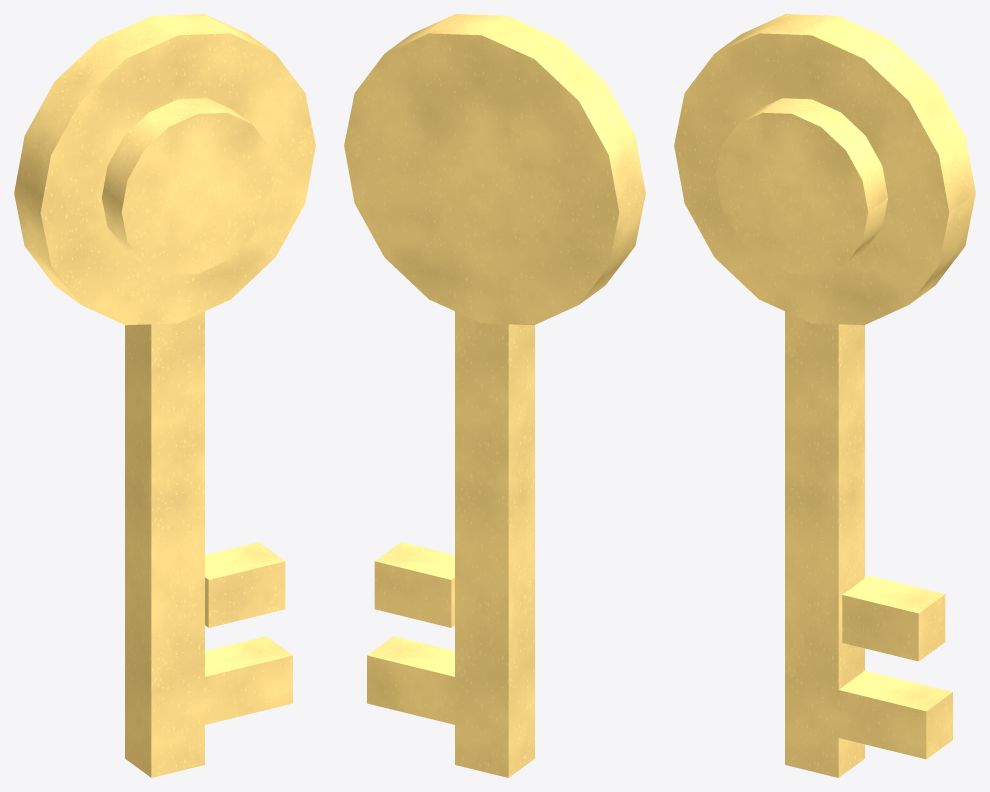
Rendered from key_sun.glb.
3 renders of one model, left to right at view 1: azimuth 30°, elevation 25°; view 2: azimuth 150°, elevation 25°; view 3: azimuth 330°, elevation 25°, orthographic.
Parts seen in each view (by area): view 1: key_sun; view 2: key_sun; view 3: key_sun.
Boxes of the visible parts, box(x1,y1,x2,y2) form: key_sun: box(14, 14, 315, 777); key_sun: box(344, 14, 645, 777); key_sun: box(674, 14, 975, 777).
Bounding box in the file's own units: 0.18 × 0.46 × 0.0525.
Materials: 1 (1 with a texture image).
